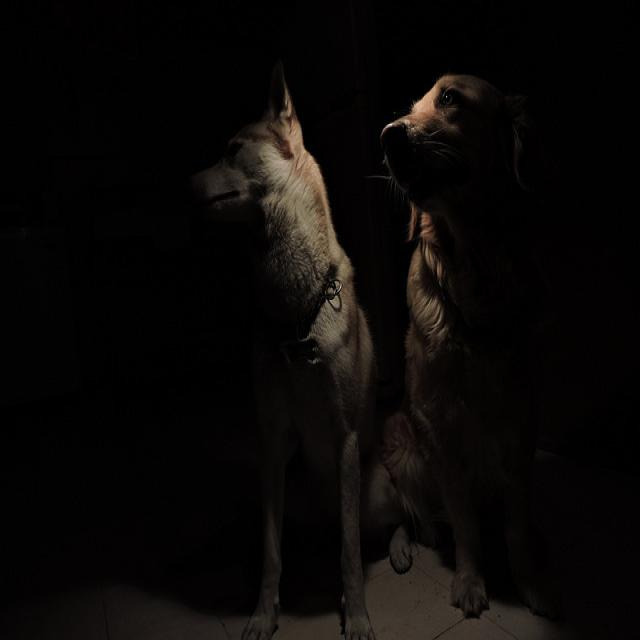Dog: (166, 84, 518, 593)
